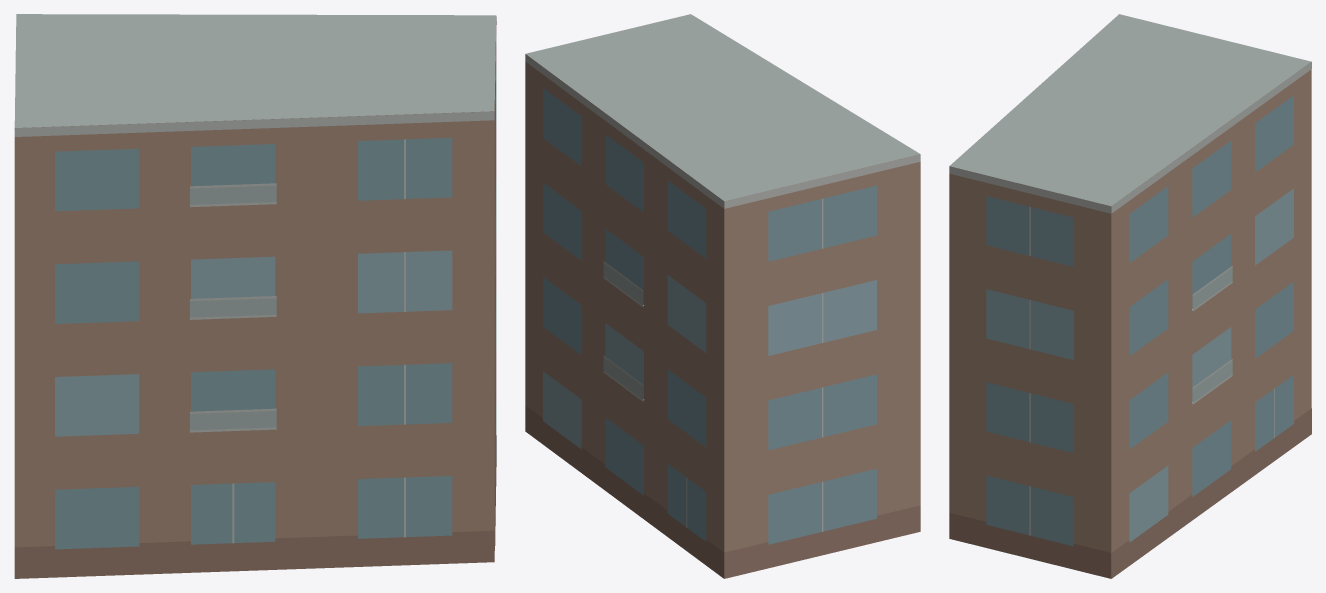
Rendered from residential-9d512ec7-afc7-4f44-88e9-66d7dfa25190.glb.
3 views of the same model, side by side, from view 1: azimuth 30°, elevation 25°; view 2: azimuth 150°, elevation 25°; view 3: azimuth 270°, elevation 25° (orthographic). The views are drawn at different scales.
Visible parts, largest first — view 1: residential-9d512ec7-afc7-4f44-88e9-66d7dfa25190.tmp; view 2: residential-9d512ec7-afc7-4f44-88e9-66d7dfa25190.tmp; view 3: residential-9d512ec7-afc7-4f44-88e9-66d7dfa25190.tmp.
Part boxes in pixels (bbox=[...]): residential-9d512ec7-afc7-4f44-88e9-66d7dfa25190.tmp: bbox=[14, 14, 496, 578]; residential-9d512ec7-afc7-4f44-88e9-66d7dfa25190.tmp: bbox=[525, 14, 920, 578]; residential-9d512ec7-afc7-4f44-88e9-66d7dfa25190.tmp: bbox=[949, 14, 1311, 578].
Size of the model in its own units: 13.51 by 12.2 by 10.76.
